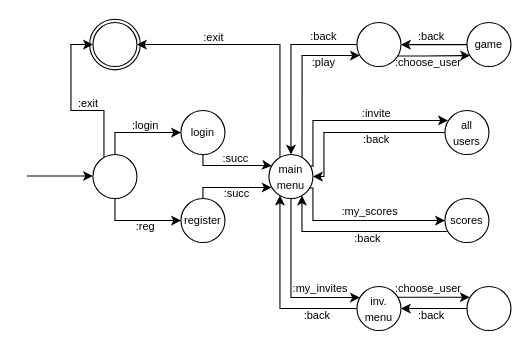
Some shapes in this 530 by 350 pixel diagram are drawn without their labels. Each missing label, with the box of its shape:
exit: (92, 21, 137, 67)
game menu: (356, 21, 401, 67)
intro: (92, 153, 137, 199)
invitation: (466, 285, 511, 331)
